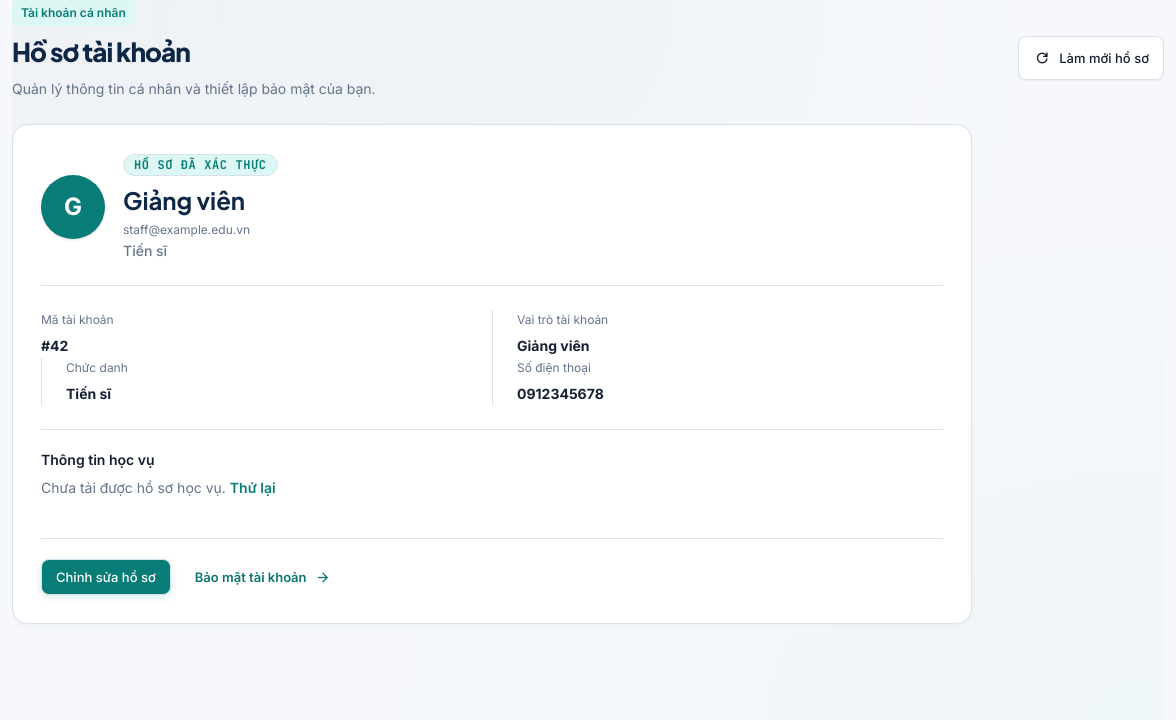
Test: ProfilePage › loads stored phone and title when auth session omits both fields
This screenshot has width=1176, height=720.
Expected: the text "0912345678" is shown, [517,385,604,402]
Expected: the text "Tiến sĩ" below "staff@example.edu.vn" is shown, [123,242,167,259]
Click the button "Chỉnh sửa hồ sơ". click: click(106, 577)
box: [41,559,171,595]
(page scrolled)
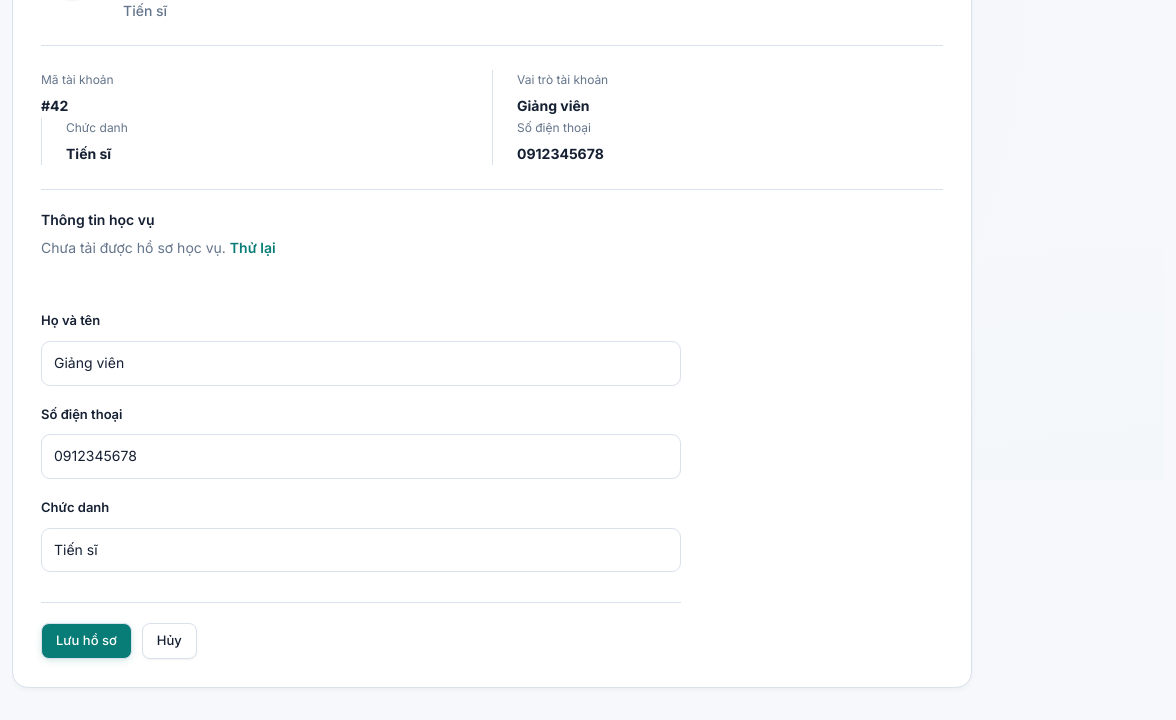
Expected: the field labelled "Số điện thoại" holds "0912345678", [41,434,681,479]
Expected: the field labelled "Chức danh" holds "Tiến sĩ", [41,528,681,572]
